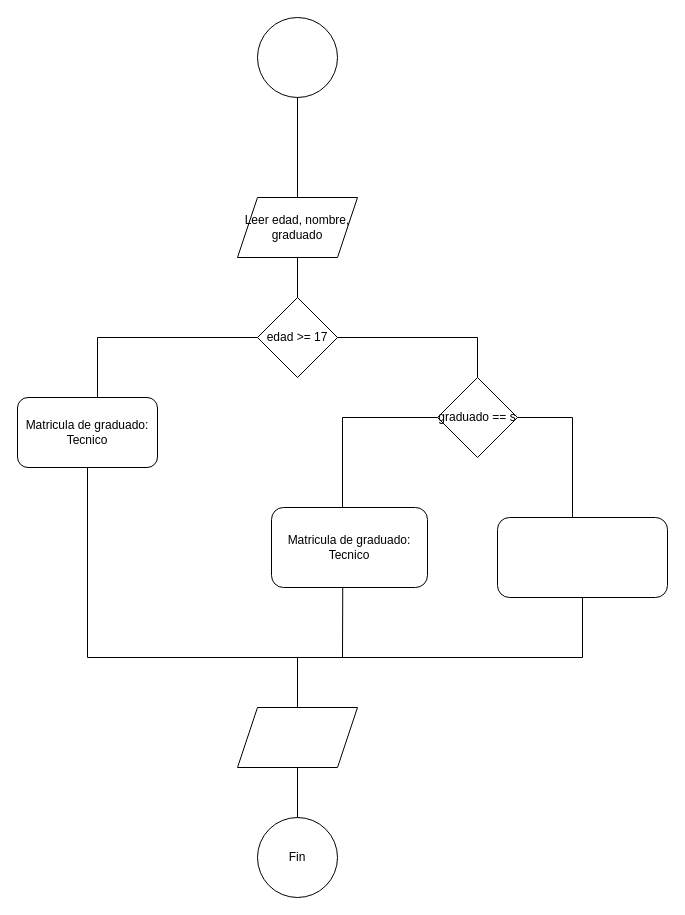
This 685x915 diagram has some shape labels left out. The shapes that lost their labels are listed below. From the top down, each one's centre as x and y in pixels, then its label:
(297,57): Inicio
(582,557): Matricula de graduado: Tecnico o Bachillerato
(297,737): Matricula de graduado
